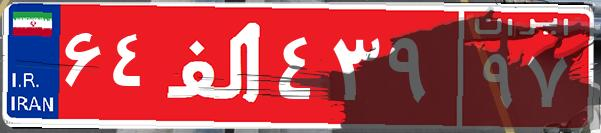3: (330, 28, 385, 110)
4: (273, 28, 330, 110), (110, 28, 158, 105)
6: (57, 26, 110, 107)
7: (525, 38, 570, 115)
9: (385, 28, 445, 110), (475, 38, 525, 113)
الف: (158, 15, 273, 115)
